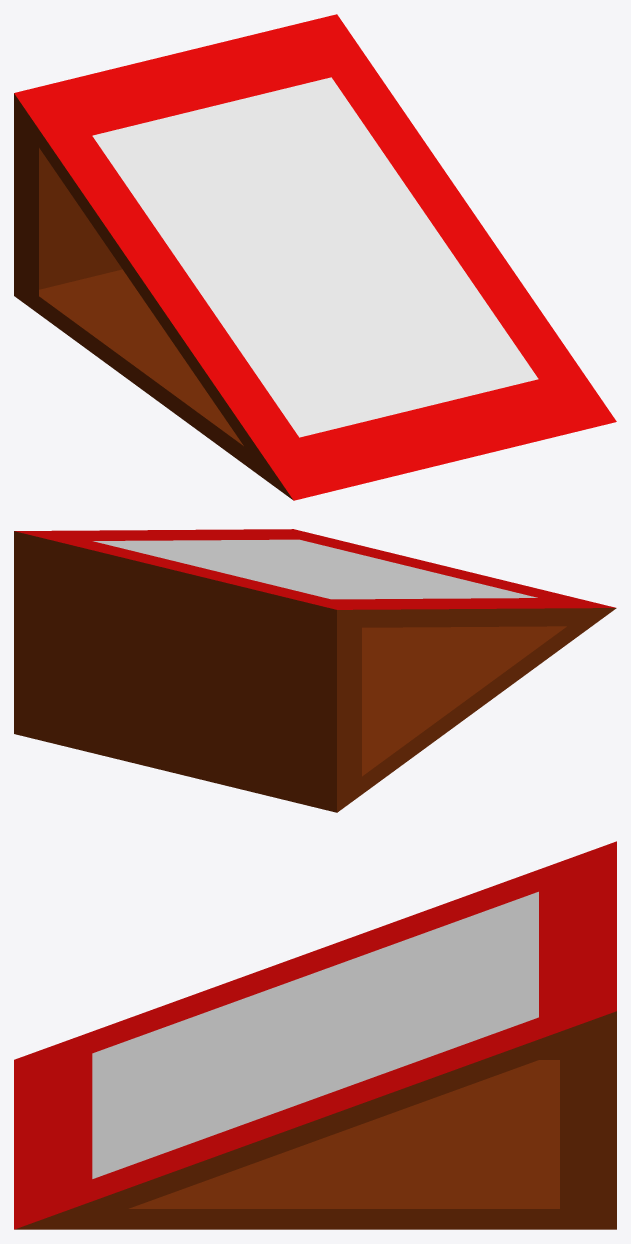
Rendered from Ramp.fbx.
The picture shows the model from 3 angles, top to bottom: view 1: azimuth 30°, elevation 25°; view 2: azimuth 150°, elevation 25°; view 3: azimuth 270°, elevation 25°; orthographic projection. The views are drawn at different scales.
Parts seen in each view (by area): view 1: Cube; view 2: Cube; view 3: Cube.
Boxes of the visible parts, left/top/right/bottom form: Cube: left=14, top=14, right=616, bottom=500; Cube: left=14, top=529, right=616, bottom=812; Cube: left=14, top=841, right=616, bottom=1229.
Bounding box in the file's own units: 300 × 200 × 120.
